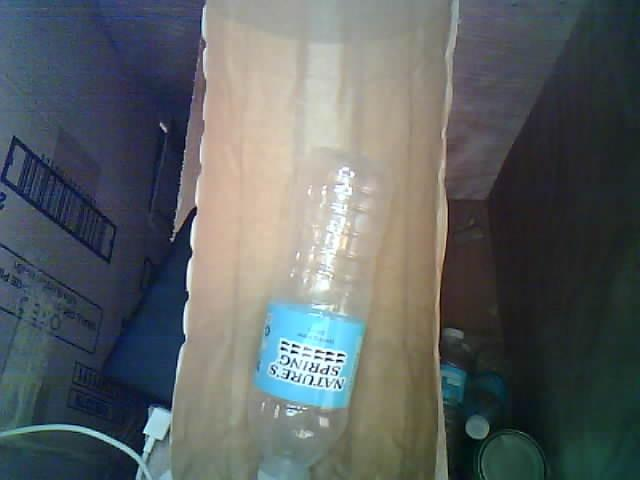small_bottle: (224, 140, 409, 480)
